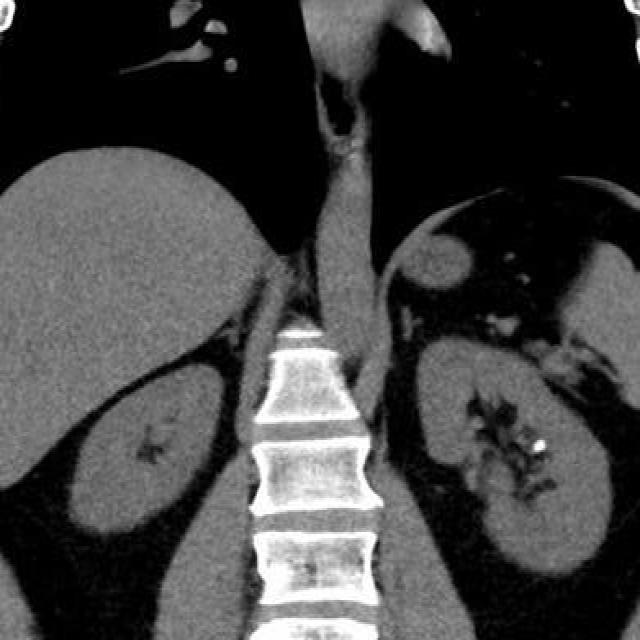Tas_Var: (530, 437, 548, 457)
